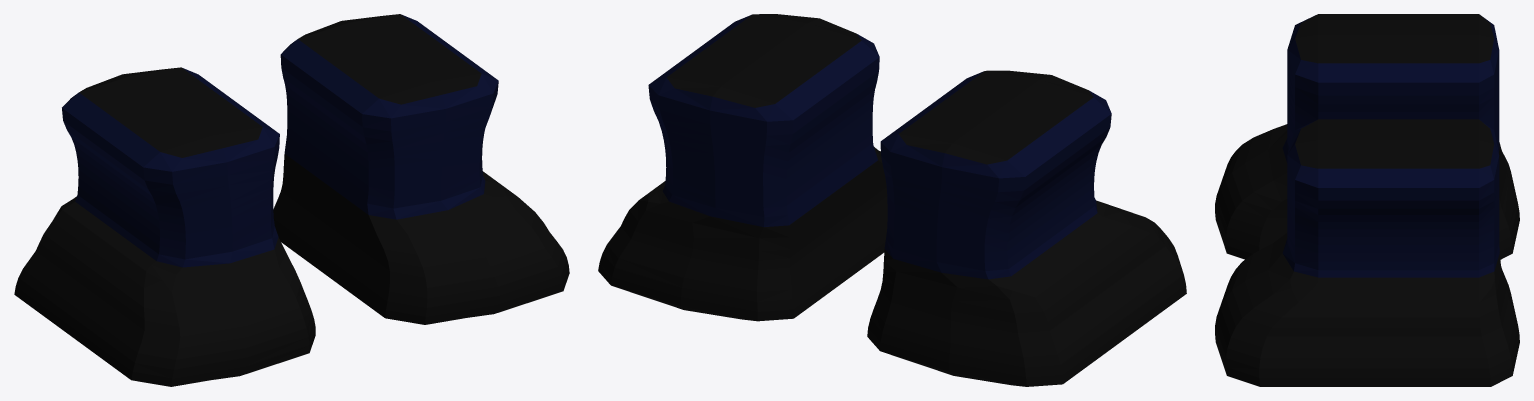
Rendered from sepatu.obj.
3 renders of one model, left to right at view 1: azimuth 30°, elevation 25°; view 2: azimuth 150°, elevation 25°; view 3: azimuth 270°, elevation 25°, orthographic. The views are drawn at different scales.
Visible parts, largest first — view 1: Plane; view 2: Plane; view 3: Plane.
Boxes of the visible parts, bbox=[...] form: Plane: bbox=[14, 14, 569, 386]; Plane: bbox=[598, 14, 1186, 386]; Plane: bbox=[1215, 14, 1519, 386].
Size of the model in its own units: 1.54 by 0.6863 by 0.939.
